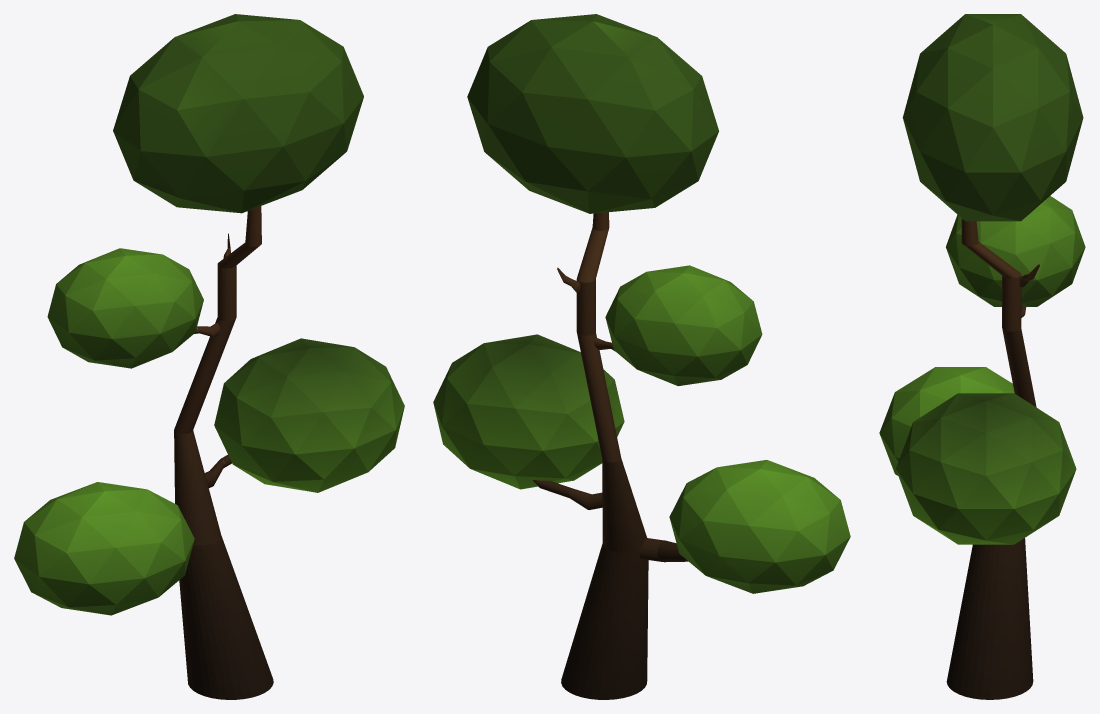
File: env_tree_FarhanDinaf_01.glb
3 views of the same model, side by side, from view 1: azimuth 30°, elevation 25°; view 2: azimuth 150°, elevation 25°; view 3: azimuth 270°, elevation 25° (orthographic).
Visible parts, largest first — view 1: Icosphere.002, Icosphere, Cylinder, Icosphere.003, Icosphere.001; view 2: Icosphere.002, Icosphere, Cylinder, Icosphere.003, Icosphere.001; view 3: Icosphere.002, Icosphere, Cylinder, Icosphere.001, Icosphere.003.
Part boxes in pixels (left/top/right/bottom): Icosphere.002: left=113, top=14, right=363, bottom=213; Icosphere: left=214, top=338, right=404, bottom=492; Cylinder: left=174, top=206, right=273, bottom=699; Icosphere.003: left=14, top=482, right=194, bottom=615; Icosphere.001: left=47, top=248, right=203, bottom=368; Icosphere.002: left=467, top=14, right=718, bottom=213; Icosphere: left=433, top=334, right=624, bottom=489; Cylinder: left=533, top=212, right=688, bottom=699; Icosphere.003: left=669, top=460, right=850, bottom=593; Icosphere.001: left=605, top=265, right=762, bottom=386; Icosphere.002: left=902, top=14, right=1083, bottom=221; Icosphere: left=896, top=393, right=1076, bottom=544; Cylinder: left=946, top=218, right=1039, bottom=699; Icosphere.001: left=946, top=196, right=1085, bottom=306; Icosphere.003: left=879, top=367, right=1014, bottom=475.
Bounding box in the file's own units: 5.34 × 8.9 × 2.51.
1 material, 1 textured.
